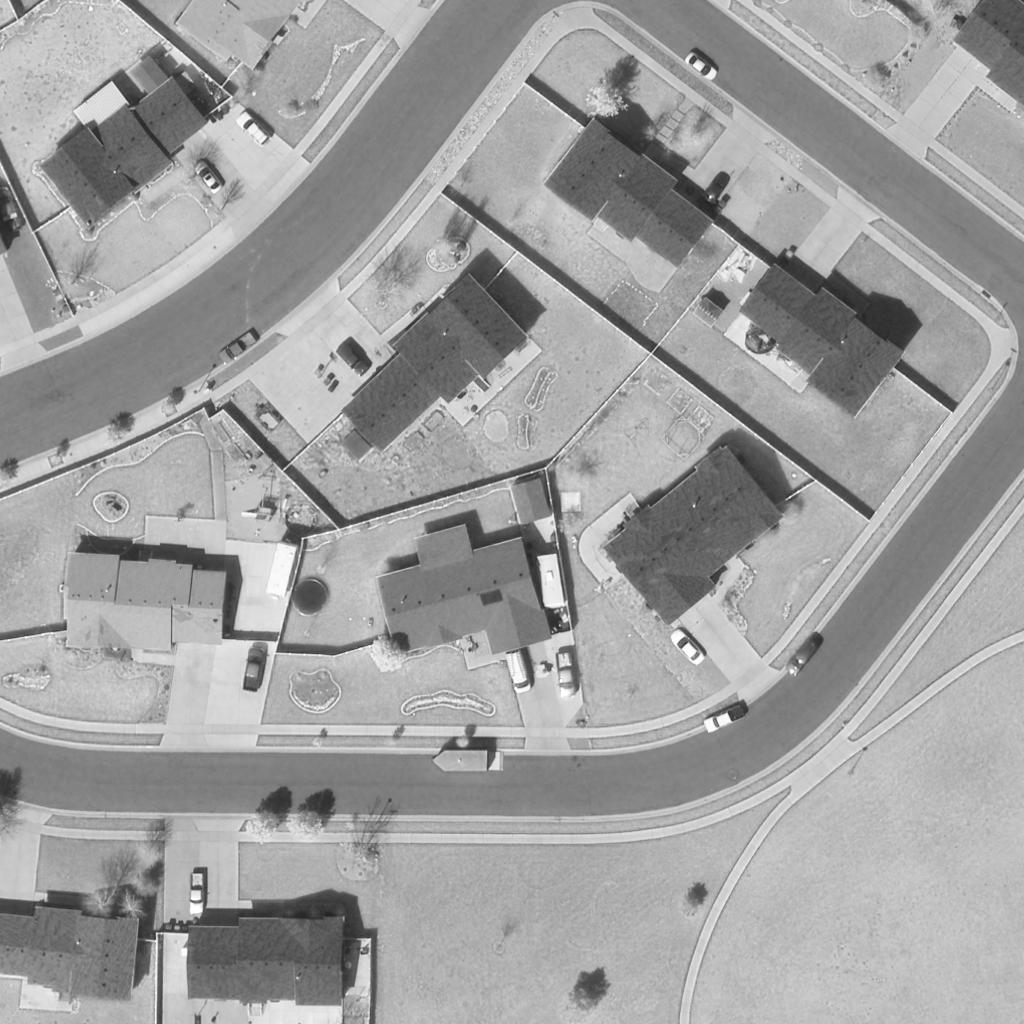vehicle: (534, 556, 568, 606), (269, 543, 297, 601), (694, 172, 734, 212), (671, 628, 709, 668), (216, 330, 258, 364), (234, 111, 272, 147), (704, 704, 748, 734), (784, 639, 818, 677), (506, 650, 534, 696), (192, 159, 228, 193), (683, 50, 719, 82), (551, 651, 577, 695), (337, 344, 371, 376), (241, 651, 265, 693), (188, 873, 204, 915)
